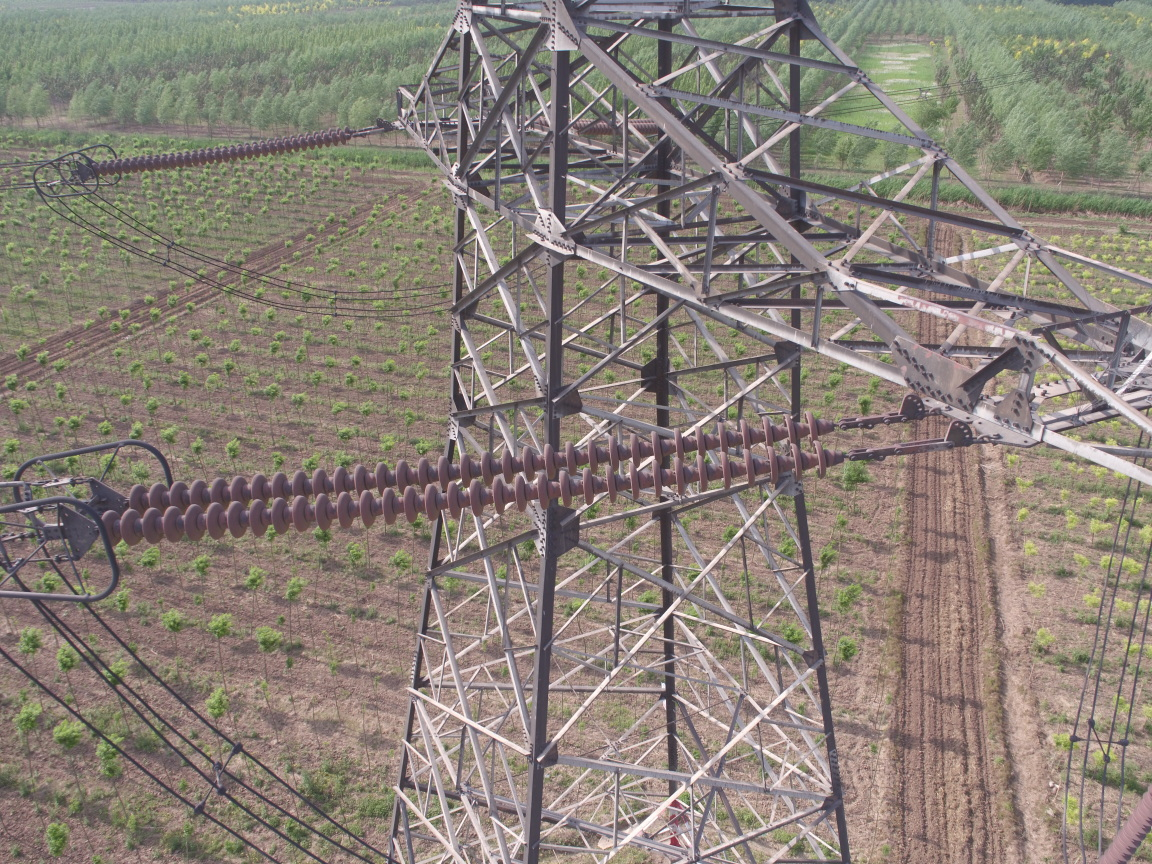insulator: (79, 409, 887, 552), (75, 125, 372, 178)
